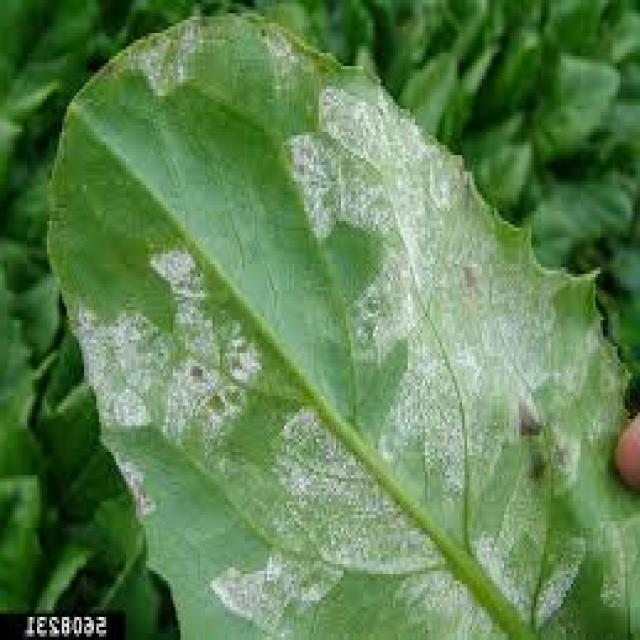Downy_Mildew: (121, 67, 579, 625)
